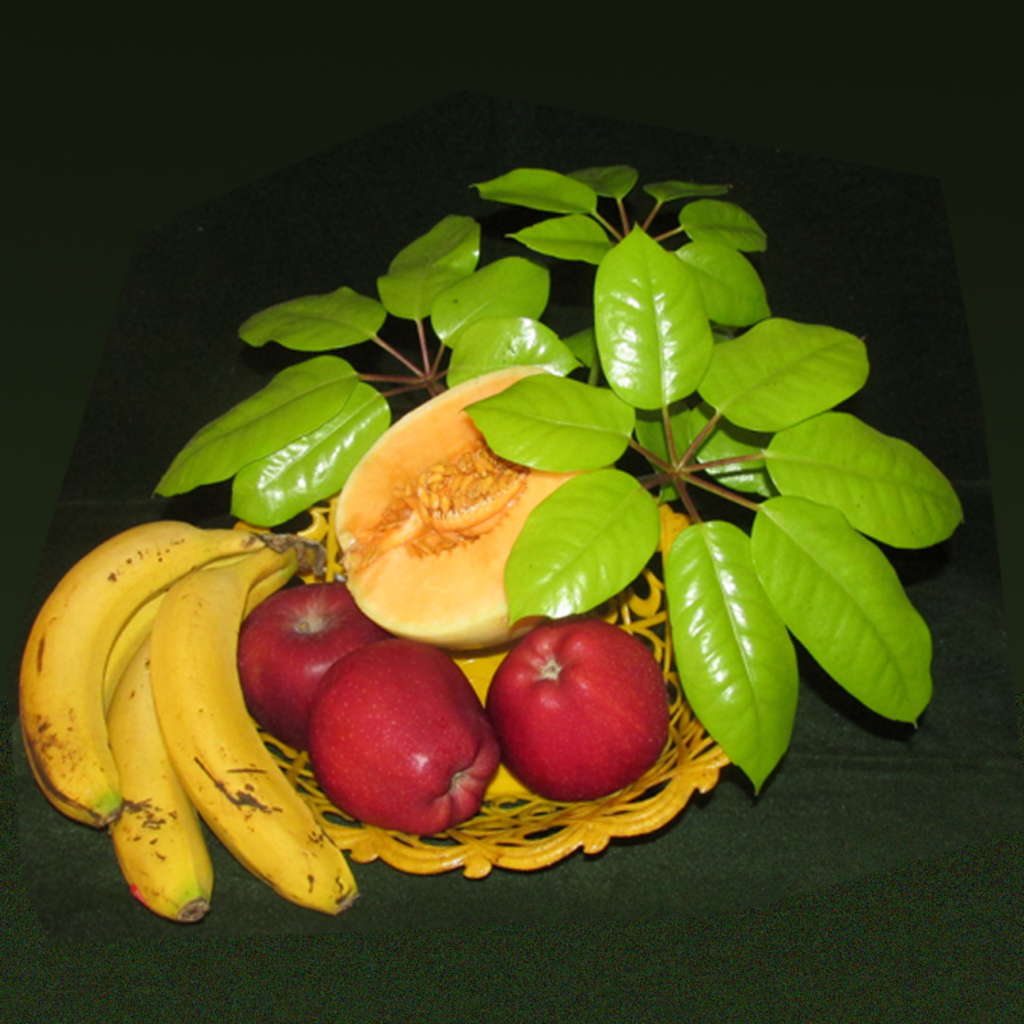Apple: (311, 638, 500, 832), (477, 627, 669, 816), (235, 576, 385, 743)
